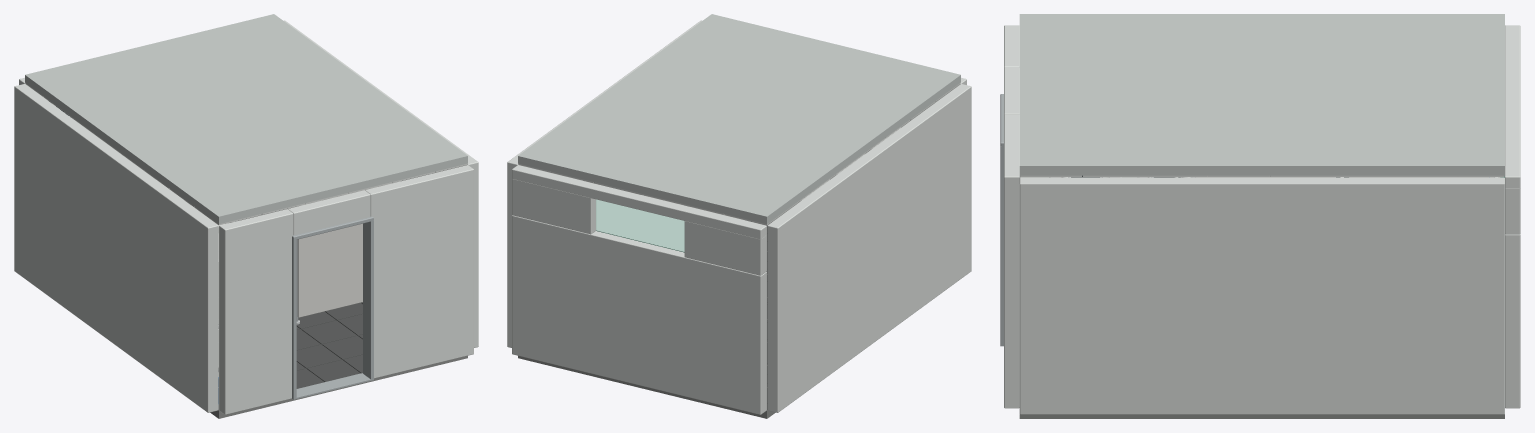
Rendered from Washroom_Laundry.fbx.
3 views of the same model, side by side, from view 1: azimuth 30°, elevation 25°; view 2: azimuth 150°, elevation 25°; view 3: azimuth 270°, elevation 25° (orthographic). The views are drawn at different scales.
Visible parts, largest first — view 1: WR_Ceiling_Back, WR_Wall_Left, WR_Entry_Right, WR_Entry_Left, WR_Cubicle_Divider, WR_Floor, WR_Entry_Lintel, WR_Entry_Metal_Jamb.001, WR_Wall_Right, WR_Ceiling, WR_Entry_Metal_Jamb, WR_Door_Threshold (+2 smaller); view 2: WR_Ceiling_Back, WR_Wall_Left, WR_Back_Lower, WR_Back_Header, WR_Back_Right, WR_Back_Left, WR_Window_Frosted, WR_Wall_Right, WR_Floor_Slab, WR_Ceiling; view 3: WR_Wall_Right, WR_Ceiling_Back, WR_Entry_Right, WR_Back_Lower, WR_Back_Header, WR_Floor_Slab, WR_Ceiling, WR_Entry_Metal_Jamb.001, WR_Entry_Lintel, WR_Back_Right, WR_Entry_Left.
Boxes of the visible parts, bbox=[...] form: WR_Ceiling_Back: bbox=[25, 14, 467, 224]; WR_Wall_Left: bbox=[14, 84, 218, 412]; WR_Entry_Right: bbox=[365, 165, 473, 378]; WR_Entry_Left: bbox=[219, 209, 293, 414]; WR_Cubicle_Divider: bbox=[297, 181, 399, 317]; WR_Floor: bbox=[218, 302, 362, 409]; WR_Entry_Lintel: bbox=[288, 190, 370, 235]; WR_Entry_Metal_Jamb.001: bbox=[363, 220, 373, 380]; WR_Wall_Right: bbox=[283, 20, 478, 347]; WR_Ceiling: bbox=[25, 83, 467, 225]; WR_Entry_Metal_Jamb: bbox=[292, 239, 296, 399]; WR_Door_Threshold: bbox=[296, 373, 370, 398]; WR_Ceiling_Back: bbox=[518, 14, 960, 224]; WR_Wall_Left: bbox=[767, 84, 971, 412]; WR_Back_Lower: bbox=[512, 215, 766, 414]; WR_Back_Header: bbox=[512, 165, 766, 239]; WR_Back_Right: bbox=[512, 179, 595, 234]; WR_Back_Left: bbox=[684, 221, 766, 275]; WR_Window_Frosted: bbox=[596, 199, 684, 251]; WR_Wall_Right: bbox=[507, 20, 702, 347]; WR_Floor_Slab: bbox=[518, 356, 775, 418]; WR_Ceiling: bbox=[518, 83, 960, 225]; WR_Wall_Right: bbox=[1019, 177, 1504, 414]; WR_Ceiling_Back: bbox=[1019, 14, 1504, 175]; WR_Entry_Right: bbox=[1004, 114, 1019, 408]; WR_Back_Lower: bbox=[1505, 234, 1520, 408]; WR_Back_Header: bbox=[1505, 25, 1520, 188]; WR_Floor_Slab: bbox=[1019, 414, 1504, 418]; WR_Ceiling: bbox=[1020, 175, 1504, 176]; WR_Entry_Metal_Jamb.001: bbox=[1000, 146, 1019, 346]; WR_Entry_Lintel: bbox=[1004, 67, 1019, 114]; WR_Back_Right: bbox=[1505, 188, 1520, 234]; WR_Entry_Left: bbox=[1004, 25, 1019, 67].
Size of the model in its own units: 3.75 by 2.68 by 4.99.
